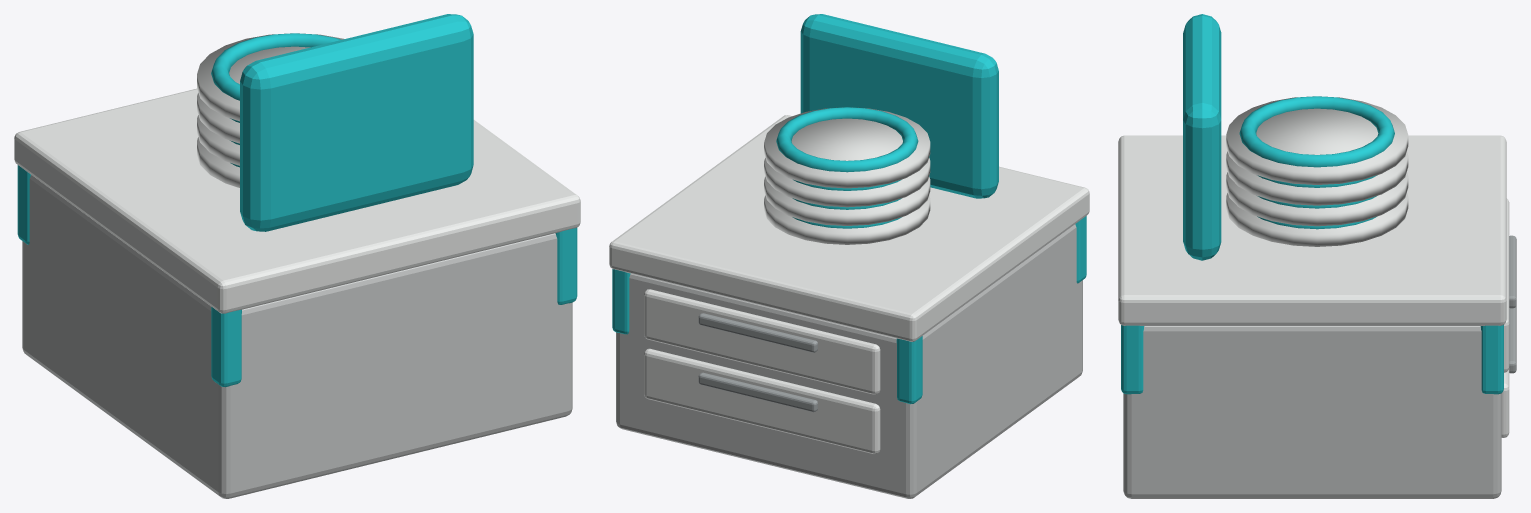
File: PlateDispenser.fbx
The picture shows the model from 3 angles, left to right: view 1: azimuth 30°, elevation 25°; view 2: azimuth 150°, elevation 25°; view 3: azimuth 270°, elevation 25°; orthographic projection. The views are drawn at different scales.
Visible parts, largest first — view 1: MAT_Steel Geometry.011, MAT_SteelLight Geometry.010, MAT_Teal Geometry.009, MAT_Cream Geometry.002; view 2: MAT_SteelLight Geometry.010, MAT_Steel Geometry.011, MAT_Teal Geometry.009, MAT_Cream Geometry.002, MAT_SteelDark Geometry.010; view 3: MAT_Steel Geometry.011, MAT_SteelLight Geometry.010, MAT_Cream Geometry.002, MAT_Teal Geometry.009, MAT_SteelDark Geometry.010.
Boxes of the visible parts, left/top/right/bottom form: MAT_Steel Geometry.011: left=22, top=175, right=572, bottom=498; MAT_SteelLight Geometry.010: left=14, top=88, right=580, bottom=313; MAT_Teal Geometry.009: left=17, top=14, right=577, bottom=387; MAT_Cream Geometry.002: left=197, top=33, right=344, bottom=187; MAT_SteelLight Geometry.010: left=609, top=115, right=1089, bottom=453; MAT_Steel Geometry.011: left=616, top=224, right=1082, bottom=498; MAT_Teal Geometry.009: left=612, top=14, right=1086, bottom=404; MAT_Cream Geometry.002: left=764, top=107, right=930, bottom=244; MAT_SteelDark Geometry.010: left=698, top=313, right=817, bottom=412; MAT_Steel Geometry.011: left=1123, top=326, right=1501, bottom=498; MAT_SteelLight Geometry.010: left=1118, top=135, right=1509, bottom=437; MAT_Cream Geometry.002: left=1226, top=96, right=1408, bottom=246; MAT_Teal Geometry.009: left=1121, top=14, right=1503, bottom=394; MAT_SteelDark Geometry.010: left=1509, top=235, right=1516, bottom=373.
Bounding box in the file's own units: 162 × 167 × 166.
